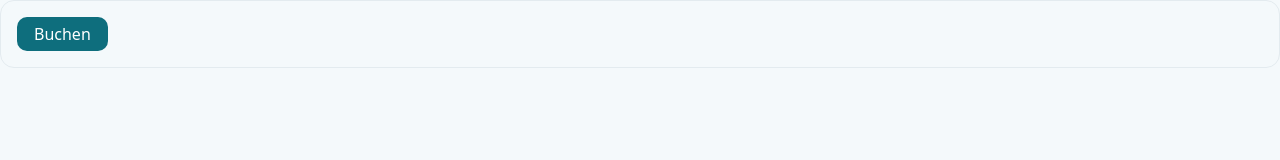
Test: BookingBox › shows the translated error code when booking fails
Step 1. Click the button "Buchen" → (62, 34), box [17,17,108,51]
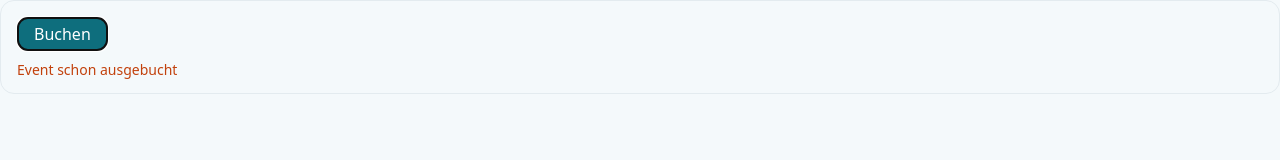
expect the message reads "Event schon ausgebucht": met, box [17,60,177,79]
